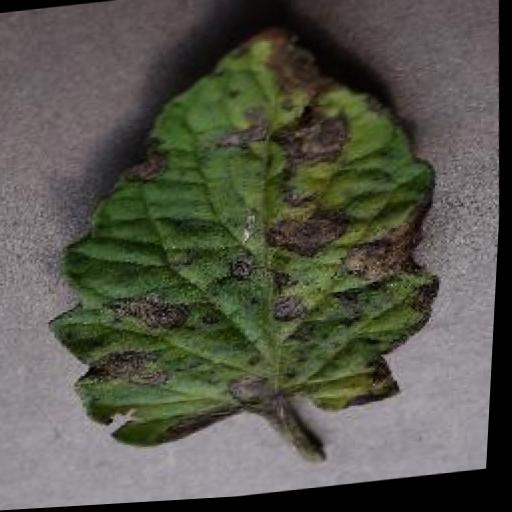Early Blight: (29, 9, 459, 464)
